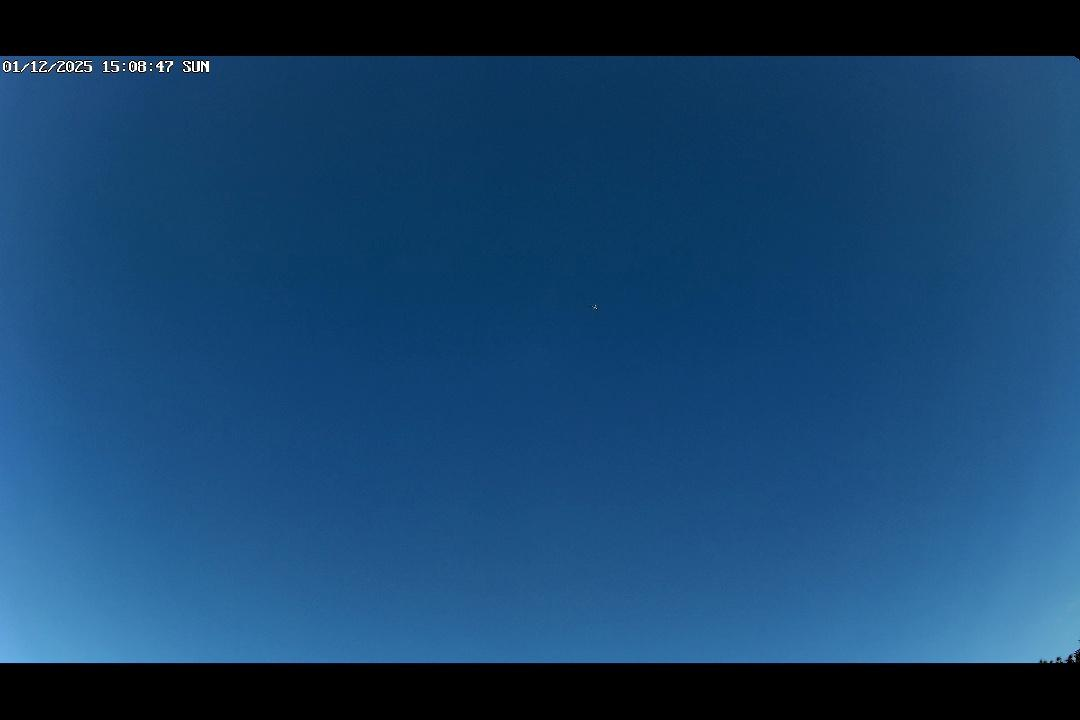WildLife: (586, 300, 604, 313)
